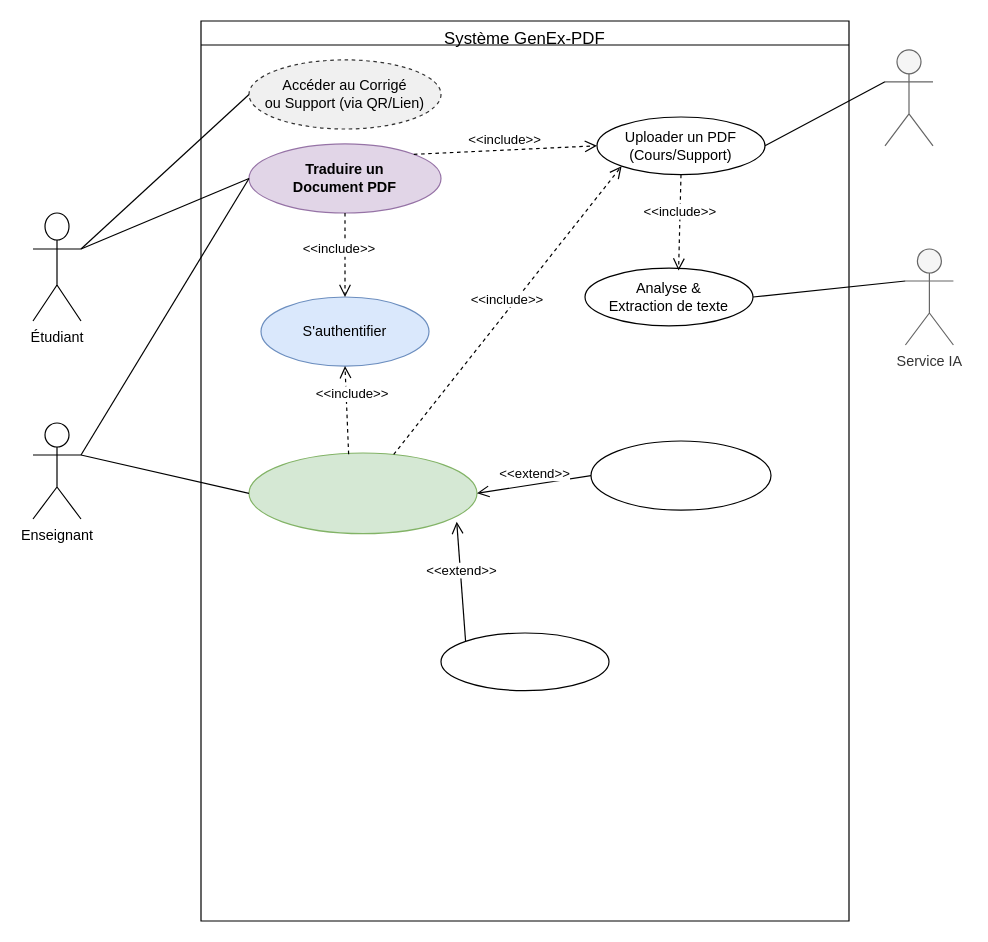
Some shapes in this 988 by 942 pixel diagram are drawn without their labels. The shapes that lost their labels are listed below. From the top down, each one's centre as x and y in pixels, then its label:
At pixel 908 97: "Service OCR/PDF".
At pixel 362 493: "Générer une feuille d'exercices".
At pixel 680 475: "Prévisualiser et Éditer les questions".
At pixel 524 661: "Exporter PDF (Sujet + Corrigé)".
